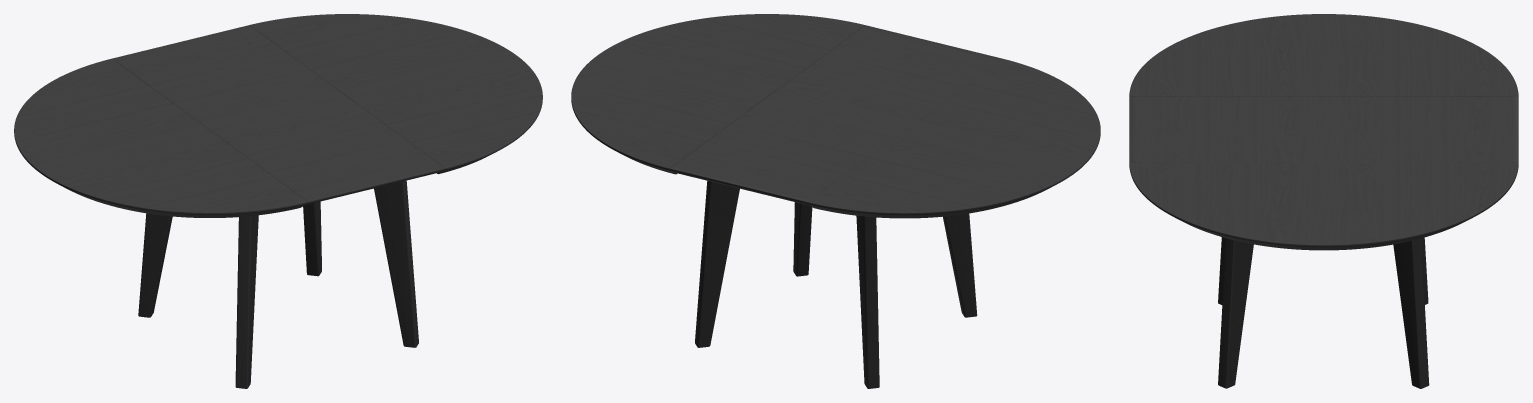
The model's file is urban-kruglyj_l56.glb.
3 views of the same model, side by side, from view 1: azimuth 30°, elevation 25°; view 2: azimuth 150°, elevation 25°; view 3: azimuth 270°, elevation 25° (orthographic).
Parts seen in each view (by area): view 1: urban-kruglyj_L56; view 2: urban-kruglyj_L56; view 3: urban-kruglyj_L56.
Part boxes in pixels (x1,y1,x2,y2): urban-kruglyj_L56: (14, 14, 542, 388); urban-kruglyj_L56: (571, 14, 1100, 388); urban-kruglyj_L56: (1129, 14, 1518, 388).
Bounding box in the file's own units: 1.75 × 0.7598 × 1.25.
2 materials, 2 textured.
